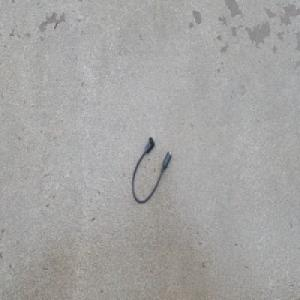Wire: (131, 135, 172, 204)
